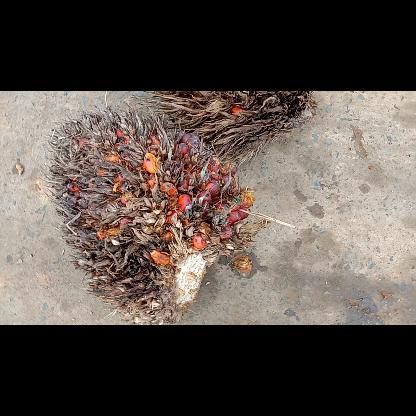Janjang kosong: (130, 91, 315, 165)
Terlalu masak: (41, 103, 266, 324)
